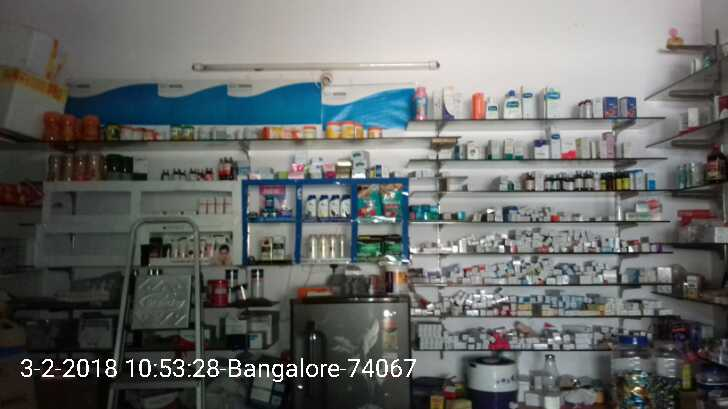vicks: (261, 190, 293, 219)
